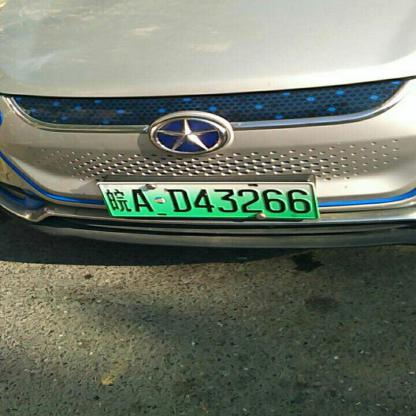lp: (97, 181, 317, 219)
